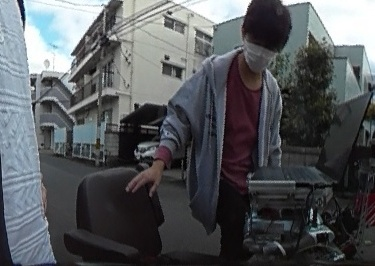person: (163, 0, 293, 266)
